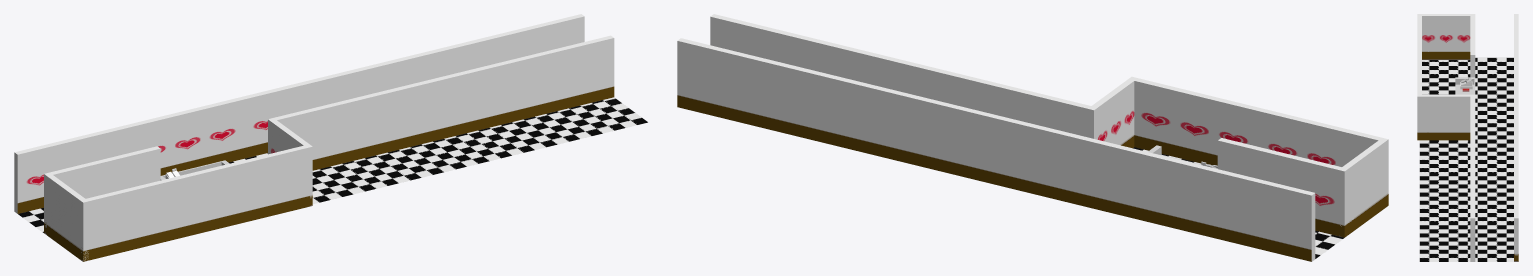
File: Rezi_start.fbx
The picture shows the model from 3 angles, left to right: view 1: azimuth 30°, elevation 25°; view 2: azimuth 150°, elevation 25°; view 3: azimuth 270°, elevation 25°; orthographic projection. The views are drawn at different scales.
Visible parts, largest first — view 1: pCube17 (×4), pCube15 (×5), pCube16 (×3), pPlane1 (×3), pCube18; view 2: pCube15 (×5), pCube17 (×4), pCube16 (×3), pCube18, pPlane1; view 3: pPlane1 (×5), pCube16 (×3), pCube18, pCube17 (×4), pCube15 (×5), pCube7, pCube10.
Part boxes in pixels (x1=…): pCube17 (×4): x1=44, y1=35, x2=614, y2=234; pCube15 (×5): x1=14, y1=14, x2=584, y2=213; pCube16 (×3): x1=80, y1=118, x2=312, y2=261; pPlane1 (×3): x1=245, y1=97, x2=647, y2=204; pCube18: x1=44, y1=173, x2=88, y2=261; pCube15 (×5): x1=677, y1=38, x2=1315, y2=261; pCube17 (×4): x1=710, y1=14, x2=1348, y2=237; pCube16 (×3): x1=1088, y1=76, x2=1388, y2=204; pCube18: x1=1338, y1=138, x2=1388, y2=237; pPlane1: x1=1315, y1=230, x2=1344, y2=258; pPlane1 (×5): x1=1419, y1=57, x2=1513, y2=261; pCube16 (×3): x1=1417, y1=14, x2=1475, y2=140; pCube18: x1=1418, y1=14, x2=1474, y2=59; pCube17 (×4): x1=1470, y1=14, x2=1475, y2=261; pCube15 (×5): x1=1514, y1=14, x2=1518, y2=261; pCube7: x1=1455, y1=84, x2=1474, y2=94; pCube10: x1=1455, y1=77, x2=1474, y2=84.
Size of the model in its own units: 5000 by 522 by 1050.
Materials: 9 (4 with a texture image).
